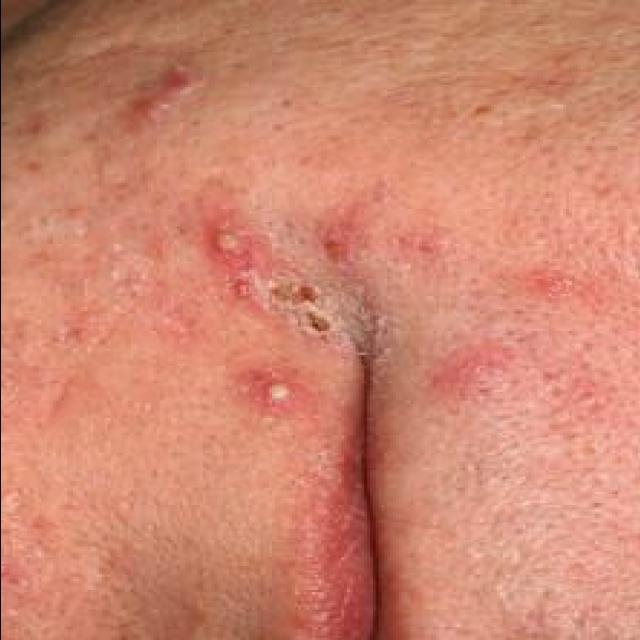Acne: (262, 282, 342, 343), (430, 344, 514, 400), (238, 364, 312, 419), (198, 213, 258, 275), (318, 208, 376, 270), (526, 264, 582, 302), (124, 94, 178, 128), (162, 63, 208, 99), (222, 274, 264, 306)
